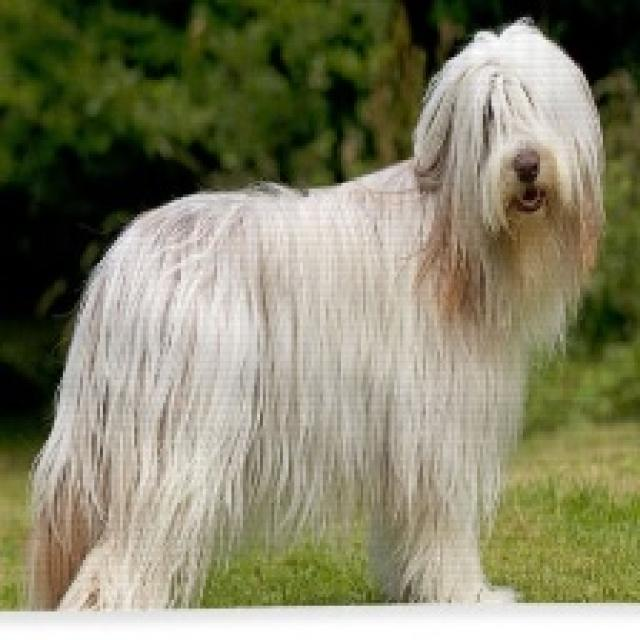cho khoe manh: (44, 15, 627, 611)
